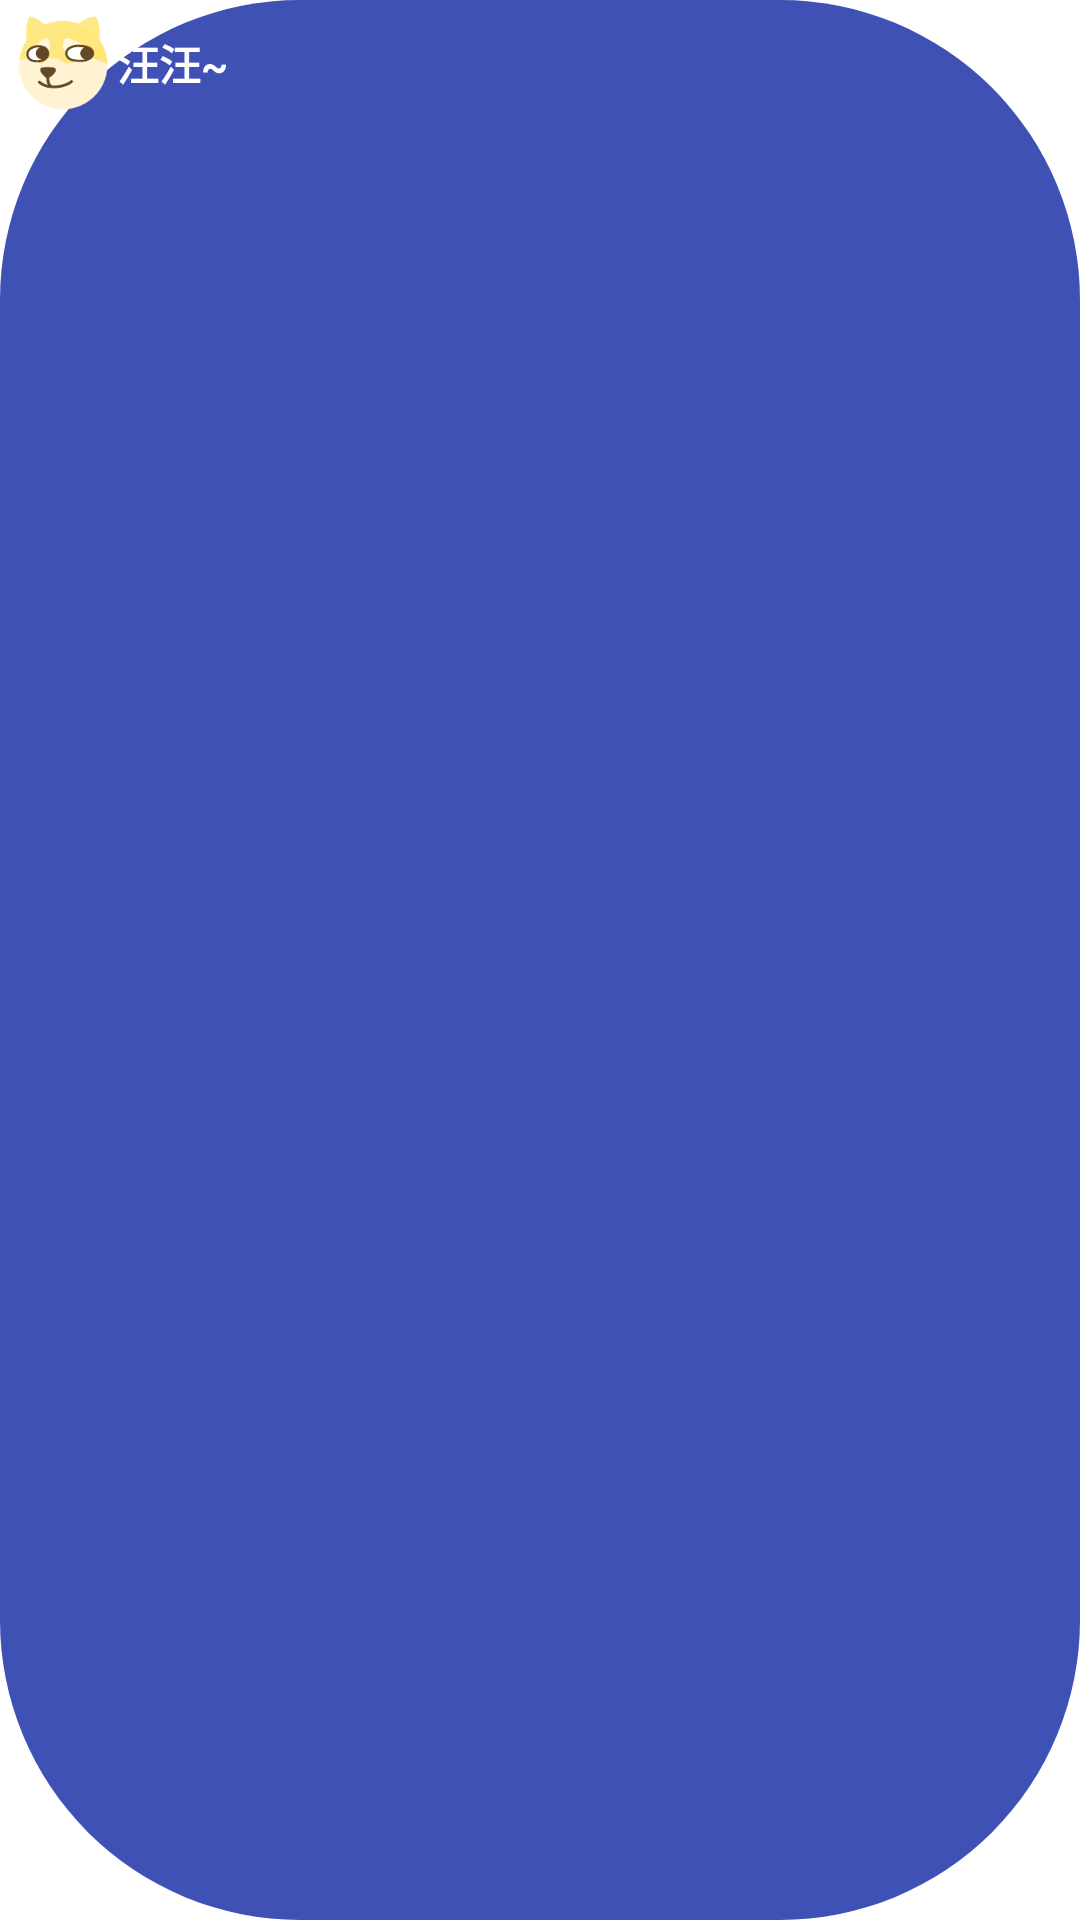

Named icons in this screenshot (1080 × 1920) and their bounding boxes, (x1, y1, x2, y2):
toast doge: (19, 16, 111, 111)
